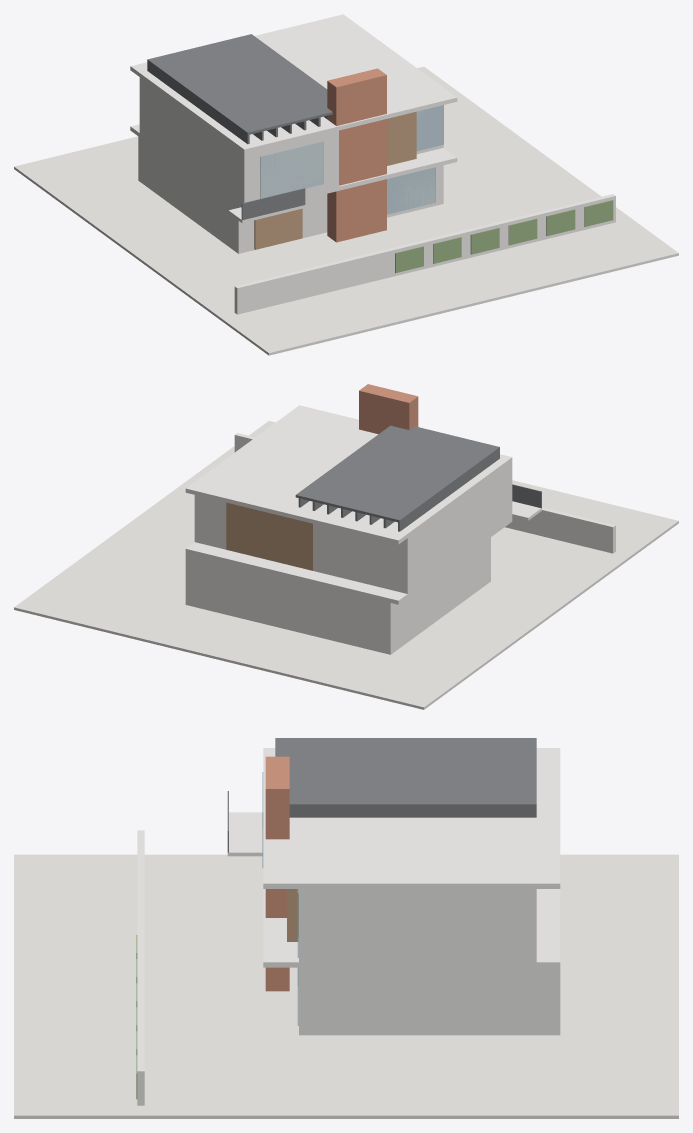
Rendered from duplex-akhalia.glb.
3 views of the same model, one above another, from view 1: azimuth 30°, elevation 25°; view 2: azimuth 150°, elevation 25°; view 3: azimuth 270°, elevation 25° (orthographic). The views are drawn at different scales.
Visible parts, largest first — view 1: site-site, floor-1-white, roof-dark, roof-white, roof-brick, floor-0-white, site-white, floor-1-glass, site-green, floor-0-glass, floor-0-timber, floor-1-timber (+1 smaller); view 2: site-site, floor-0-white, floor-1-white, roof-white, roof-dark, floor-1-timber, site-white, roof-brick, floor-1-dark; view 3: site-site, floor-1-white, roof-white, floor-0-white, roof-dark, roof-brick, site-white, floor-1-timber.
Boxes of the visible parts, x1=… form: site-site: x1=14, y1=66, x2=678, y2=355; floor-1-white: x1=130, y1=77, x2=457, y2=223; roof-dark: x1=147, y1=34, x2=332, y2=144; roof-white: x1=130, y1=14, x2=457, y2=153; roof-brick: x1=327, y1=68, x2=386, y2=242; floor-0-white: x1=138, y1=124, x2=443, y2=253; site-white: x1=234, y1=194, x2=615, y2=314; floor-1-glass: x1=260, y1=105, x2=443, y2=198; site-green: x1=395, y1=200, x2=613, y2=273; floor-0-glass: x1=387, y1=167, x2=435, y2=214; floor-0-timber: x1=254, y1=208, x2=302, y2=249; floor-1-timber: x1=387, y1=111, x2=416, y2=165; site-site: x1=14, y1=421, x2=678, y2=709; floor-0-white: x1=185, y1=537, x2=490, y2=654; floor-1-white: x1=186, y1=461, x2=541, y2=604; roof-white: x1=185, y1=405, x2=512, y2=544; roof-dark: x1=295, y1=425, x2=499, y2=531; floor-1-timber: x1=226, y1=502, x2=312, y2=570; site-white: x1=234, y1=433, x2=615, y2=553; roof-brick: x1=359, y1=384, x2=418, y2=434; floor-1-dark: x1=512, y1=484, x2=541, y2=508; site-site: x1=14, y1=854, x2=678, y2=1118; floor-1-white: x1=227, y1=812, x2=560, y2=967; roof-white: x1=263, y1=748, x2=560, y2=888; floor-0-white: x1=299, y1=889, x2=560, y2=1035; roof-dark: x1=275, y1=738, x2=536, y2=817; roof-brick: x1=265, y1=756, x2=289, y2=991; site-white: x1=137, y1=830, x2=144, y2=1105; floor-1-timber: x1=287, y1=889, x2=298, y2=941.
Size of the model in its own units: 26 by 9.55 by 28.
